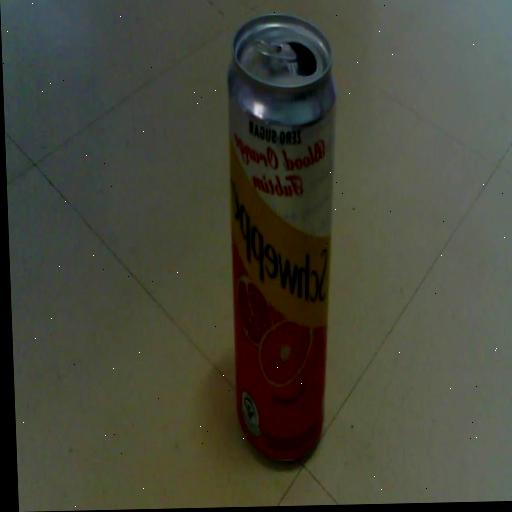canned: (188, 2, 364, 490)
